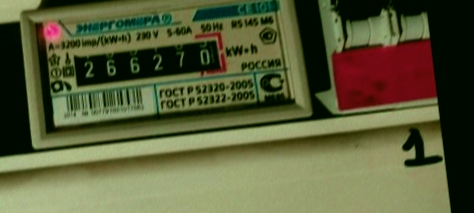0: (197, 46, 210, 67)
2: (81, 57, 97, 80), (151, 51, 165, 73)
6: (104, 57, 118, 78), (128, 54, 142, 74)
7: (173, 48, 188, 69)
screen: (59, 24, 237, 100)
